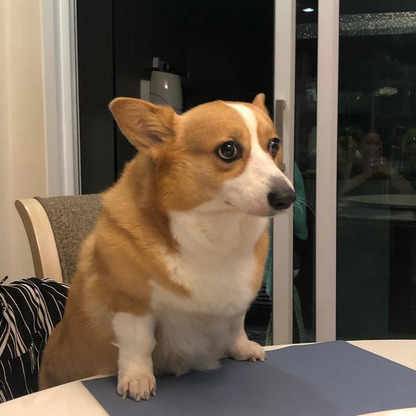Corgi: (84, 83, 303, 397)
